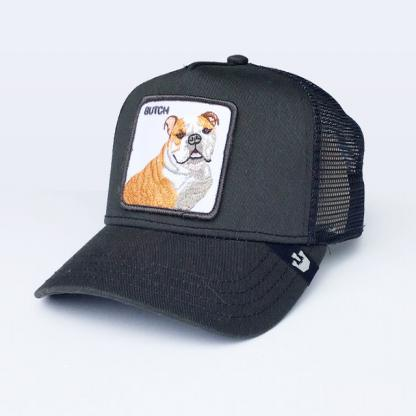cap: (31, 53, 390, 346)
